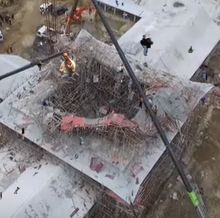Human: (185, 62, 215, 80), (57, 51, 76, 77), (140, 34, 154, 56), (116, 63, 125, 85), (17, 126, 30, 140), (144, 108, 159, 118), (40, 99, 53, 110), (37, 59, 45, 71), (123, 13, 137, 19), (200, 97, 210, 105), (14, 187, 24, 194), (138, 96, 143, 109), (115, 0, 124, 7), (7, 153, 14, 161), (188, 46, 195, 53), (37, 41, 46, 46), (79, 137, 84, 146), (47, 39, 53, 45), (5, 15, 9, 24), (8, 16, 12, 25), (131, 142, 138, 145), (131, 190, 134, 196), (0, 192, 2, 200), (90, 18, 92, 25)
